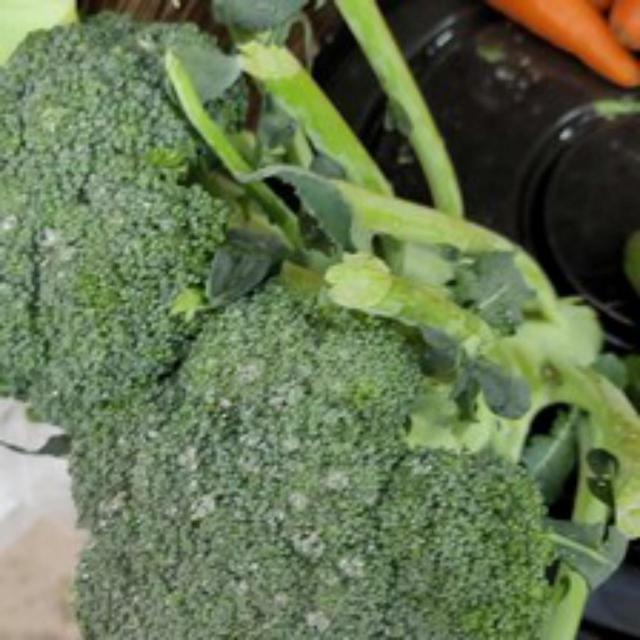broccoli: (54, 260, 566, 637)
